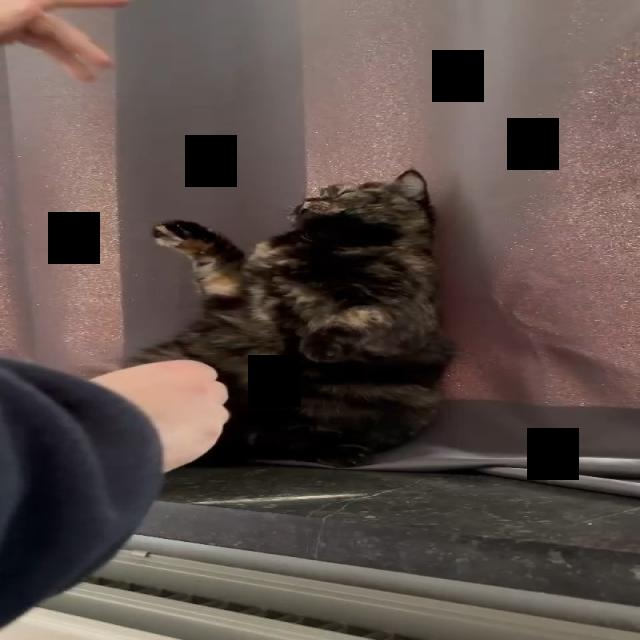authorized: (121, 167, 458, 468)
